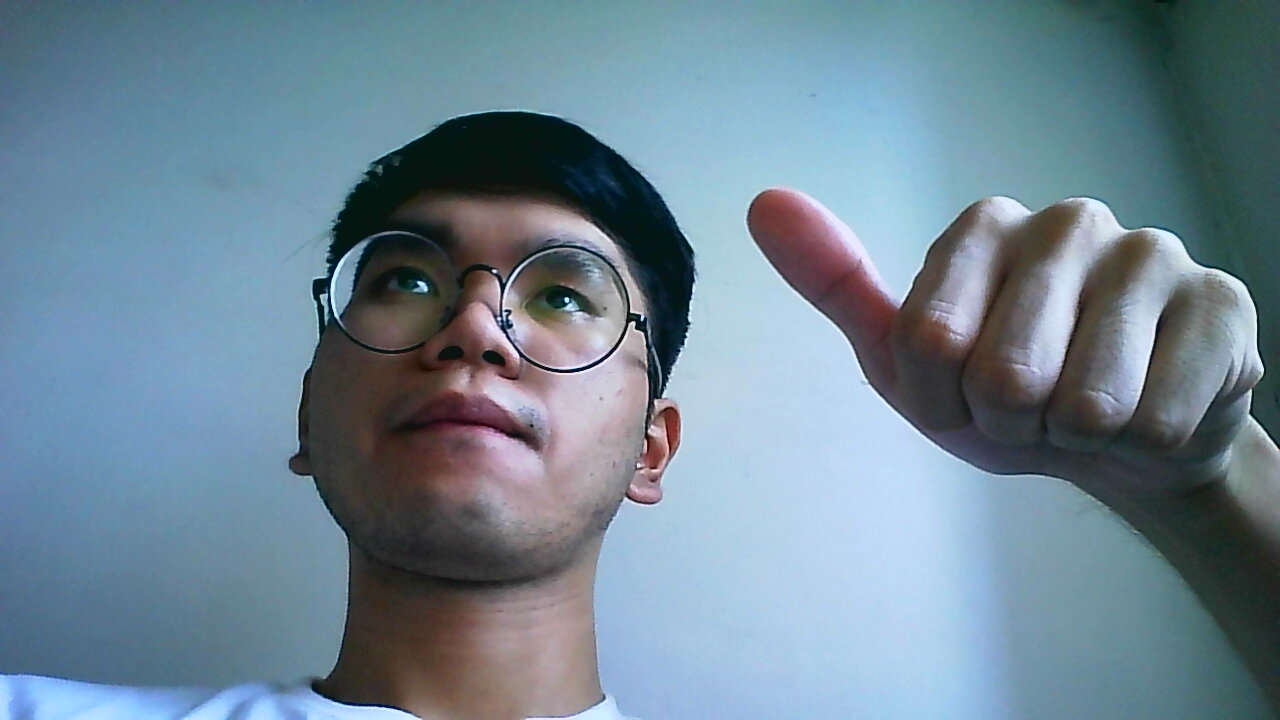thumbs: (750, 184, 1263, 517)
